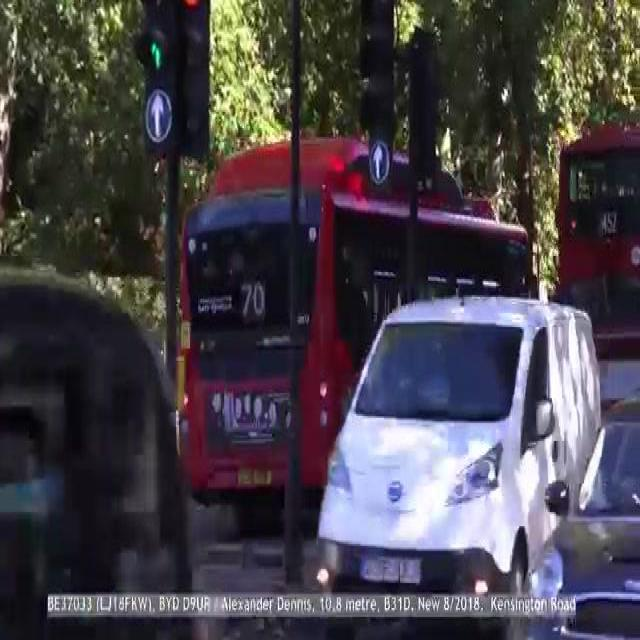motorcycle: (168, 158, 546, 502), (552, 70, 640, 444)
